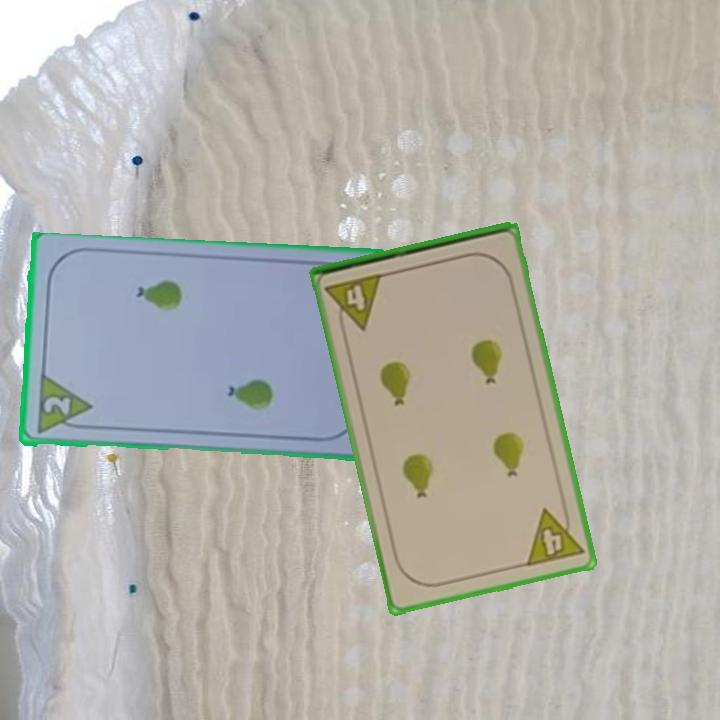2p: (33, 373, 94, 438)
4p: (522, 501, 587, 570), (322, 270, 386, 337)
